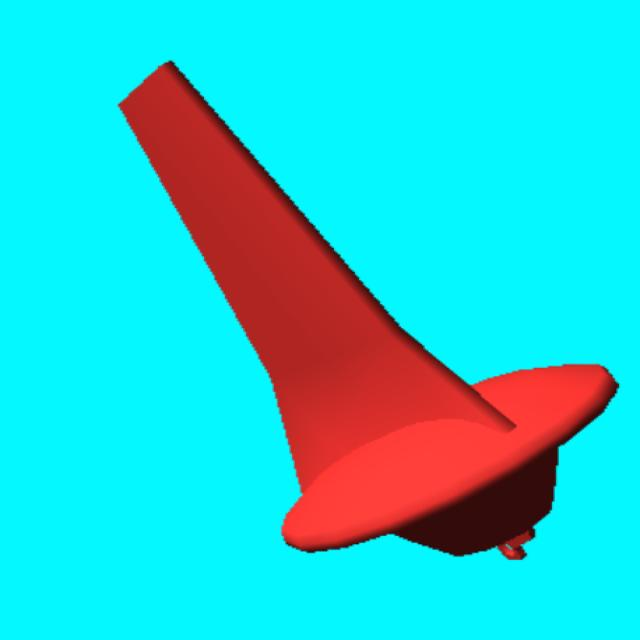RedBuoy: (120, 60, 618, 560)
